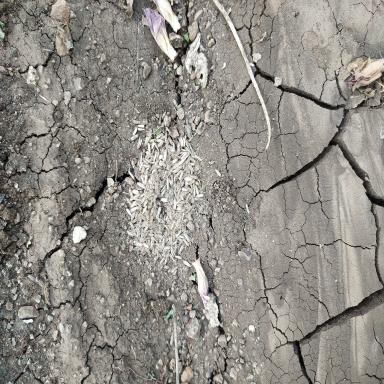pbw: (174, 147, 181, 159), (138, 212, 146, 221), (131, 228, 138, 238), (160, 187, 167, 197), (184, 155, 191, 165), (148, 215, 154, 226), (170, 246, 176, 257), (164, 137, 169, 150), (179, 152, 187, 160), (130, 200, 138, 208), (170, 264, 178, 272), (166, 168, 173, 177), (138, 166, 145, 175), (148, 179, 154, 189), (184, 215, 194, 221), (150, 174, 156, 184), (157, 140, 164, 148), (130, 206, 138, 213), (142, 158, 149, 166), (158, 169, 165, 177), (186, 186, 193, 194), (183, 260, 191, 267), (137, 138, 142, 149), (149, 207, 154, 218), (187, 174, 198, 179), (173, 99, 178, 110), (168, 144, 174, 153), (176, 233, 182, 242), (188, 163, 194, 172), (142, 205, 148, 214), (178, 245, 184, 254), (184, 233, 190, 242), (155, 133, 164, 139), (148, 201, 152, 214), (179, 170, 184, 180), (168, 136, 173, 146), (189, 156, 196, 163), (175, 165, 182, 172), (133, 193, 140, 200), (162, 223, 169, 230), (155, 245, 162, 252), (160, 184, 166, 192), (188, 134, 194, 142), (215, 169, 221, 177), (183, 238, 189, 246), (160, 256, 166, 264), (164, 149, 168, 161), (137, 182, 145, 188), (150, 236, 154, 248), (126, 208, 132, 216), (185, 146, 191, 154), (177, 206, 185, 212), (130, 134, 138, 140), (154, 142, 159, 151), (186, 165, 191, 174), (136, 227, 140, 238), (157, 206, 161, 217), (140, 175, 144, 186), (144, 174, 148, 185), (132, 242, 143, 246), (195, 184, 199, 195), (129, 188, 133, 199), (148, 128, 152, 139), (165, 127, 171, 134), (127, 230, 134, 236), (176, 169, 182, 176), (166, 156, 169, 170), (160, 161, 167, 167), (176, 212, 182, 219), (142, 248, 148, 255), (145, 171, 152, 177), (156, 199, 162, 206), (162, 170, 167, 178), (151, 140, 155, 150), (171, 220, 175, 230), (160, 197, 168, 202), (141, 194, 146, 202), (129, 221, 134, 229), (126, 198, 131, 206), (137, 128, 145, 133), (186, 192, 191, 200), (177, 187, 181, 196), (183, 222, 186, 234), (185, 140, 189, 149), (154, 254, 160, 260), (166, 178, 169, 190), (132, 120, 141, 124), (195, 194, 204, 198), (164, 256, 168, 265), (152, 242, 155, 254), (143, 242, 149, 248), (131, 218, 137, 224), (172, 269, 178, 275), (139, 162, 144, 169), (140, 192, 147, 197), (176, 230, 181, 237), (179, 194, 184, 201), (188, 180, 195, 185), (156, 215, 161, 222), (147, 228, 154, 233), (147, 192, 154, 197), (173, 199, 176, 210), (174, 243, 177, 254), (164, 132, 167, 143), (182, 136, 185, 147), (145, 151, 153, 155), (184, 177, 192, 181), (132, 190, 140, 194), (178, 214, 182, 222), (153, 154, 157, 162), (145, 137, 149, 145), (178, 200, 186, 204), (162, 176, 166, 184), (133, 128, 137, 136), (194, 197, 202, 201), (188, 142, 192, 150), (156, 165, 164, 169), (142, 164, 150, 168), (179, 177, 183, 185), (156, 151, 159, 161), (137, 204, 142, 210), (143, 201, 148, 207), (176, 180, 179, 190), (174, 190, 177, 200), (159, 135, 165, 140), (191, 194, 194, 204), (180, 137, 183, 147), (139, 218, 142, 228), (172, 240, 178, 245), (165, 237, 169, 244), (175, 255, 182, 259), (149, 138, 156, 142), (153, 236, 157, 243), (180, 180, 184, 187), (165, 213, 169, 220), (144, 226, 148, 233), (188, 211, 191, 220), (169, 236, 172, 245), (173, 158, 178, 163), (159, 154, 163, 160), (138, 124, 144, 128), (138, 160, 141, 168), (142, 246, 145, 254), (173, 142, 175, 153), (162, 237, 164, 248), (148, 143, 150, 154), (170, 210, 172, 221), (181, 188, 188, 191), (181, 225, 184, 232), (145, 167, 150, 171), (182, 211, 184, 221), (148, 236, 150, 246), (193, 187, 195, 197), (171, 174, 173, 184), (156, 139, 162, 142), (164, 246, 170, 249), (133, 240, 139, 243), (140, 155, 142, 163), (138, 209, 142, 213), (168, 149, 170, 156), (135, 199, 141, 201), (175, 183, 176, 192)
